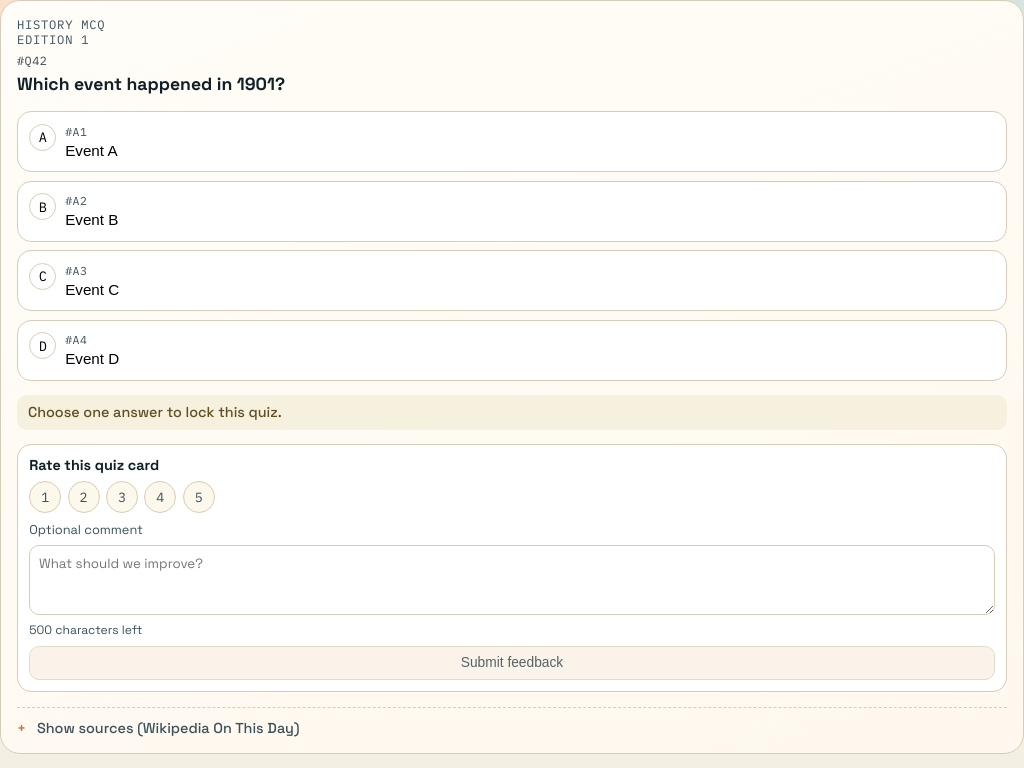
it: QuizCard feedback › submits feedback and shows saved state
This screenshot has width=1024, height=768.
Click the button named "4 stars". click: (160, 497)
box: [144,481,176,513]
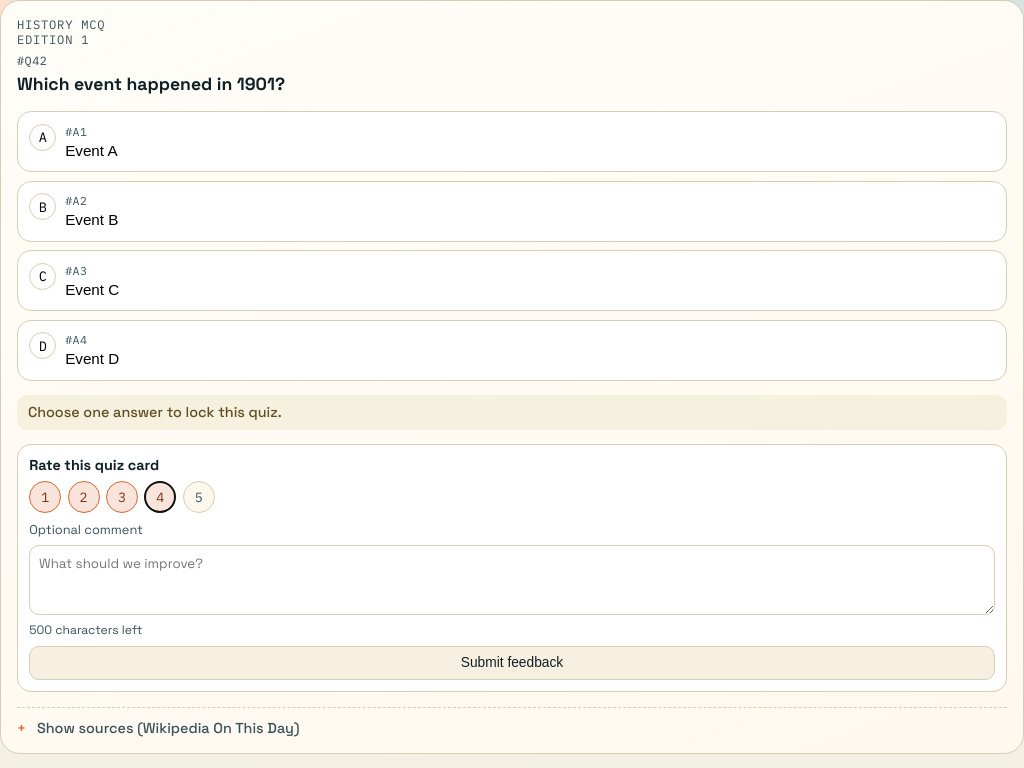
Type "Useful question" into the text box labelled "Optional comment". click: (512, 580)
box: [29,545,995,615]
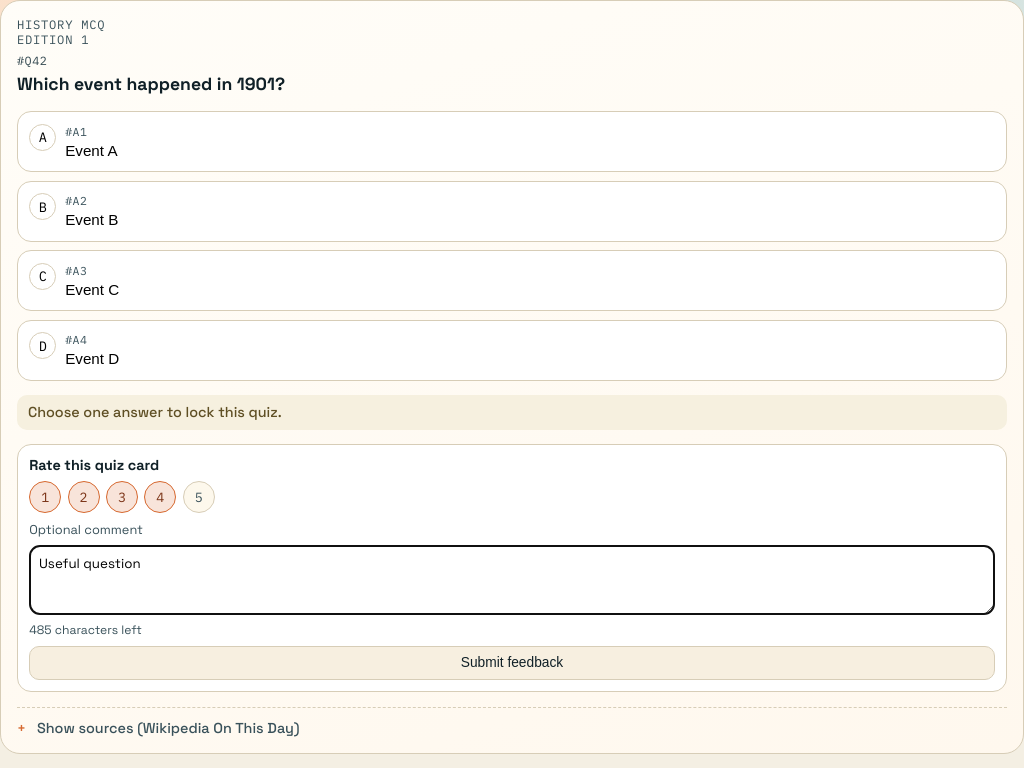
Click the button "Submit feedback". click: (512, 663)
box: [29,646,995,680]
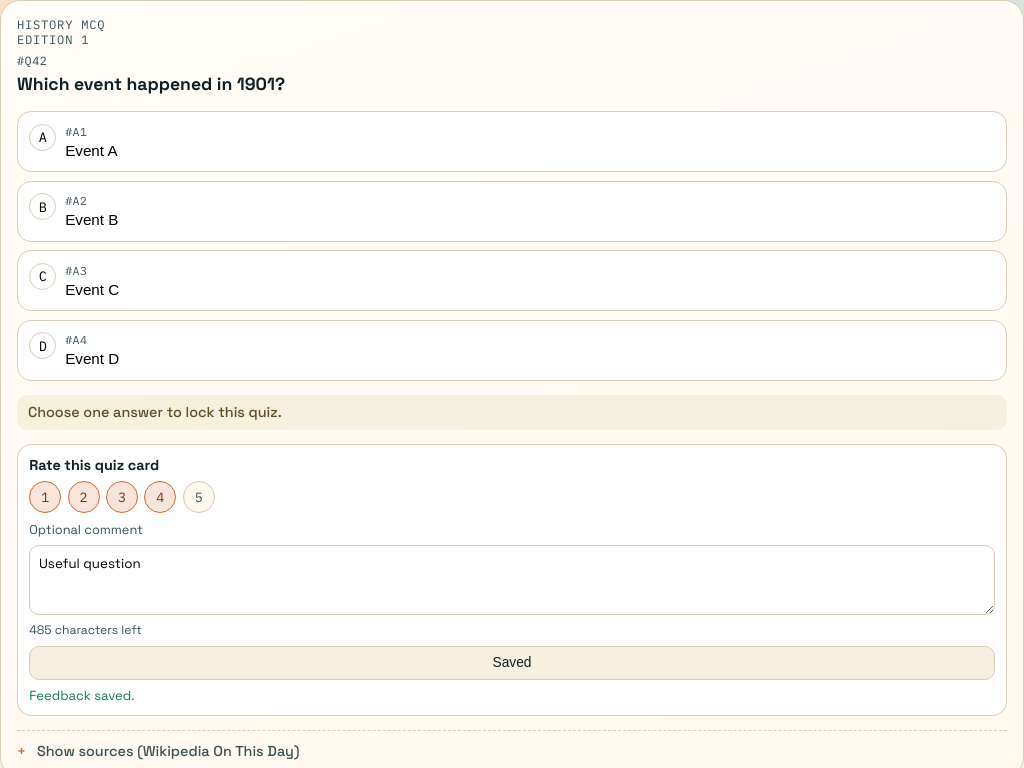
Result: the text "Feedback saved." is shown at [29,686,135,704]
Result: the button "Saved" is shown at [29,646,995,680]
